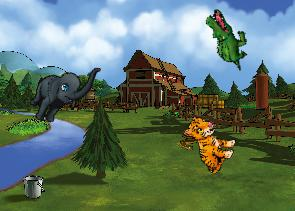crocodile: (192, 6, 261, 72)
elephant: (25, 50, 101, 134)
tiger: (173, 112, 242, 177)
